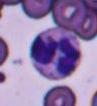N: (30, 27, 82, 81)
